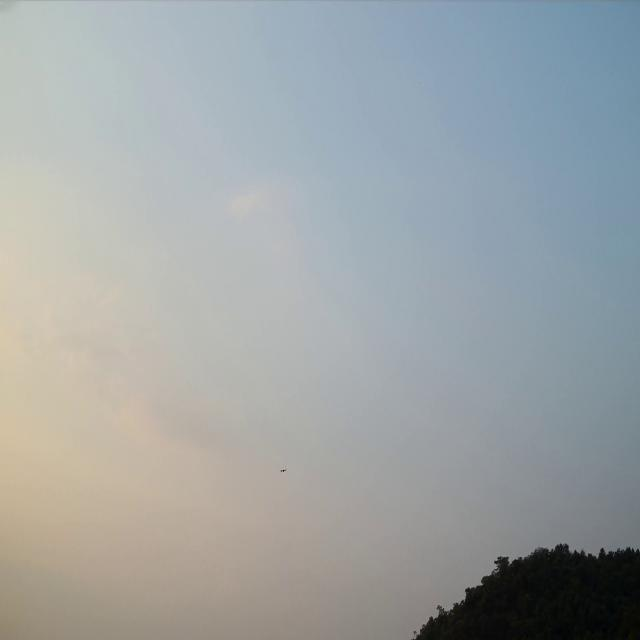drone: (280, 467, 287, 473)
